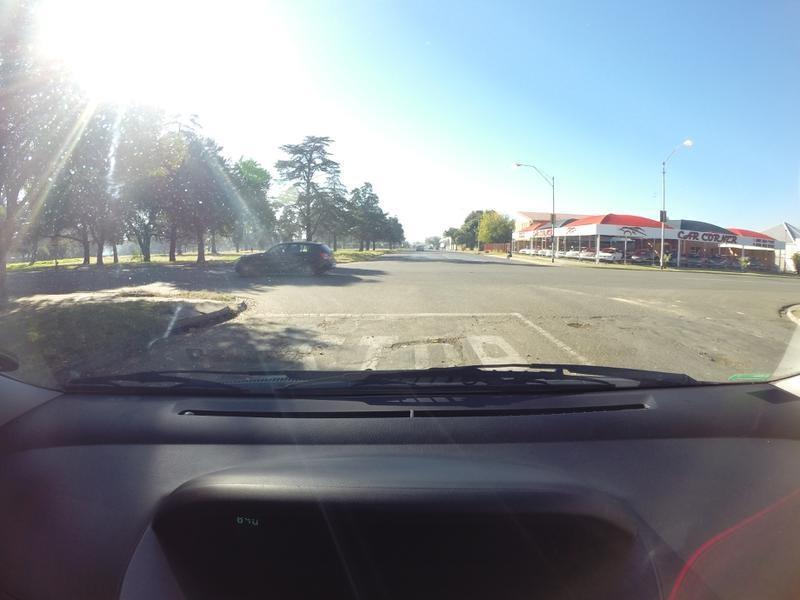pothole: (197, 345, 336, 367), (387, 330, 474, 352), (700, 344, 740, 371), (253, 314, 299, 330), (560, 311, 591, 333), (317, 314, 360, 327), (595, 308, 608, 330)
